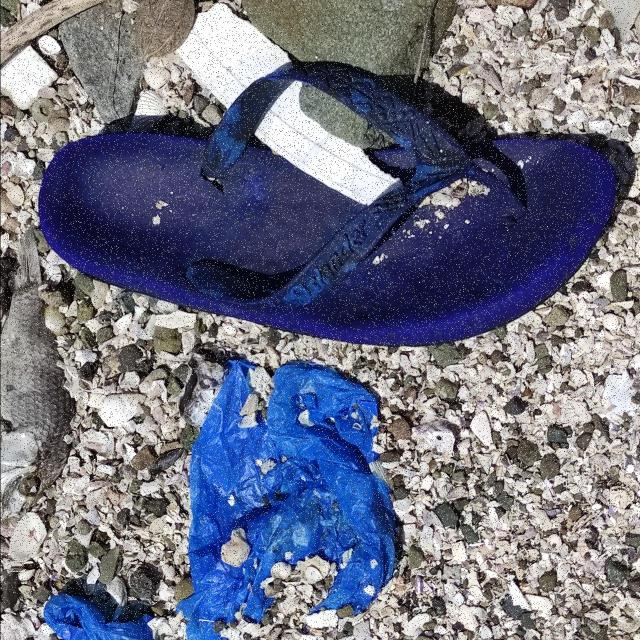plastic_waste: (46, 359, 402, 640)
rubber_waste: (40, 62, 623, 349)
